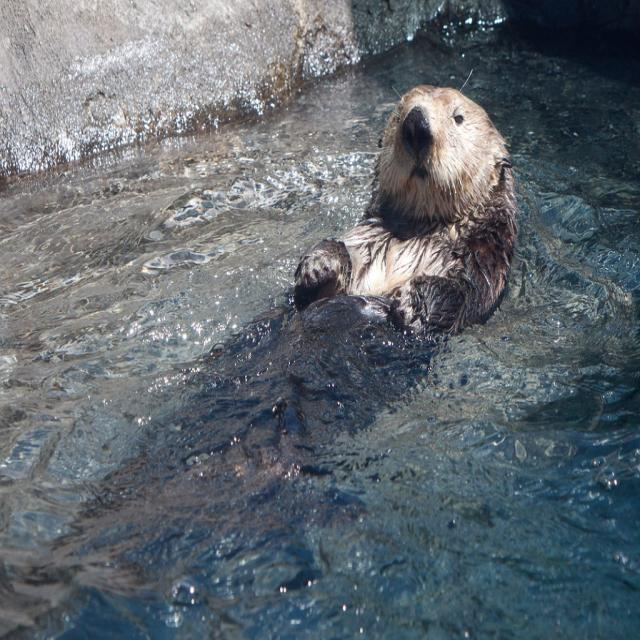otter: (298, 83, 516, 329)
